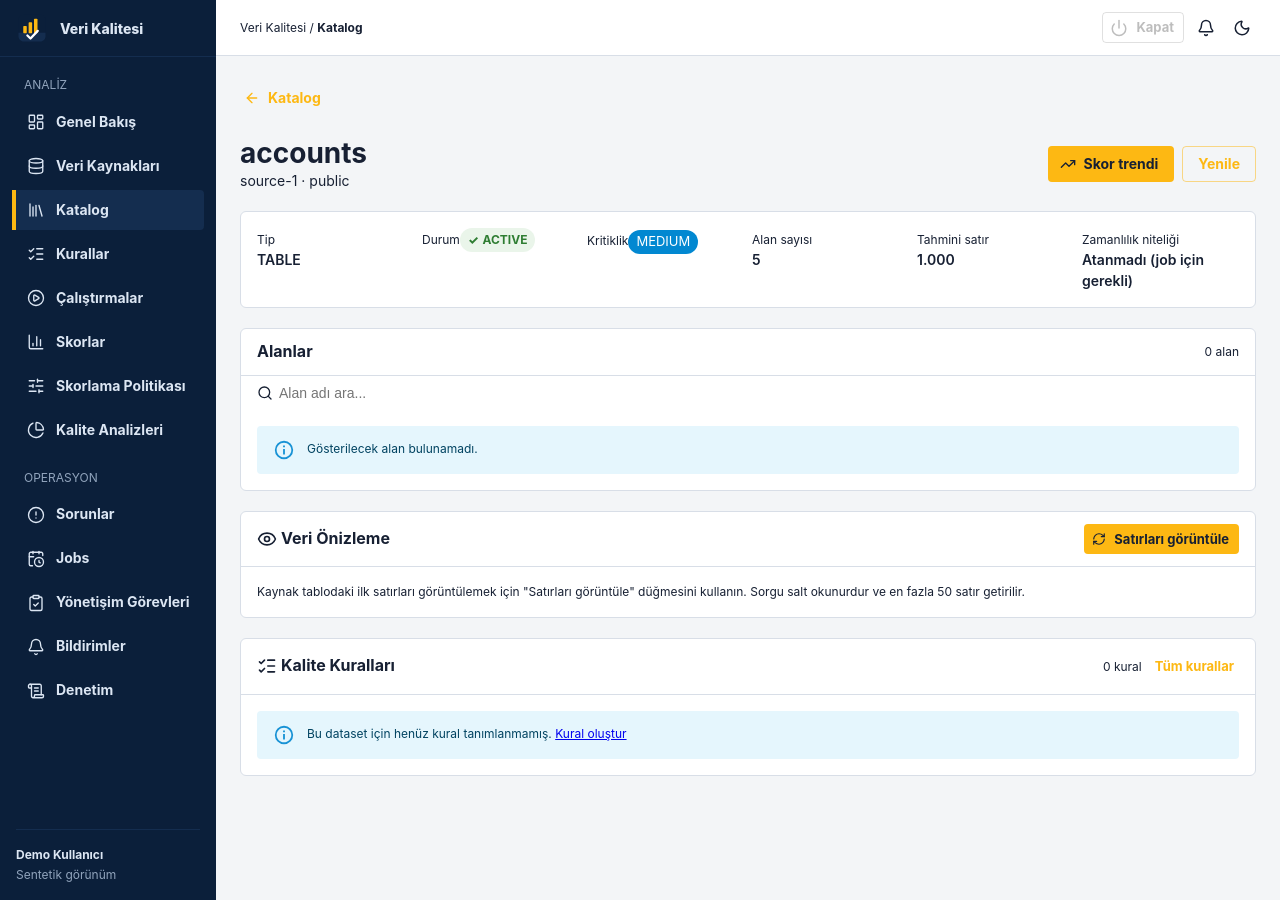
Scenario: DatasetDetailPage veri önizleme › desteklenmeyen kaynak tipinde Türkçe uyarı gösterir
Step 1. Click the button "Satırları görüntüle" → (1162, 539), box [1084,524,1239,554]
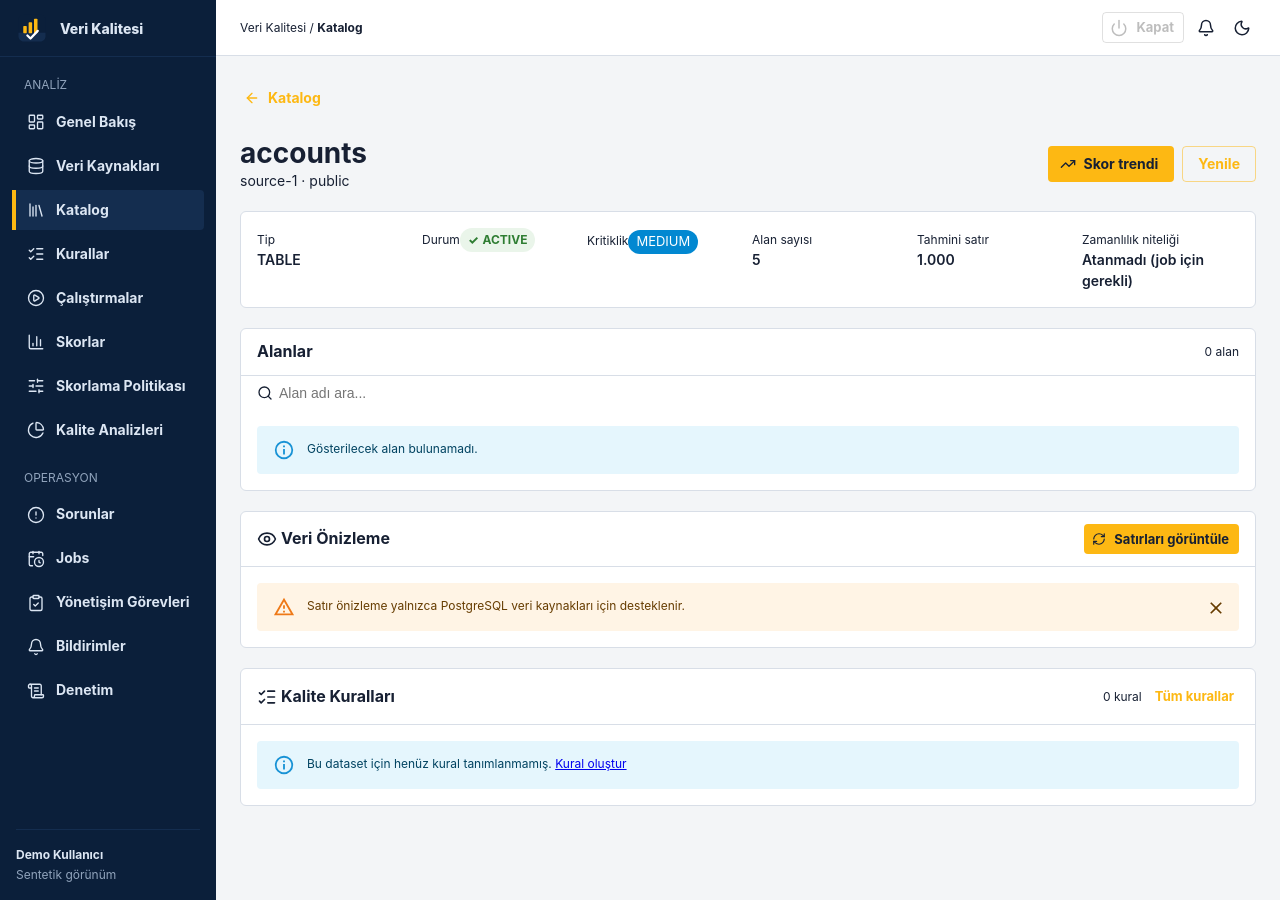
Now the text "Satır önizleme yalnızca PostgreSQL veri kaynakları için desteklenir." is shown, box [307,598,685,613]
